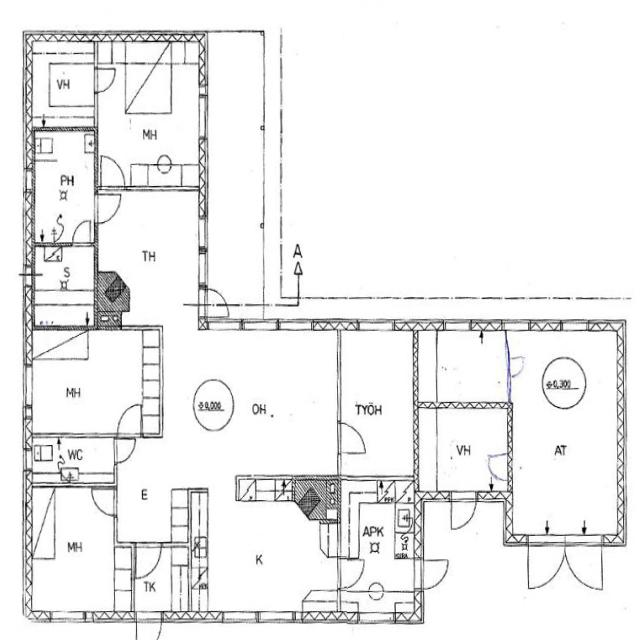door: (528, 536, 565, 593), (565, 536, 601, 593), (451, 492, 475, 534), (136, 544, 161, 580), (198, 290, 230, 318), (414, 562, 446, 590), (337, 424, 365, 454), (101, 157, 125, 190), (94, 194, 121, 223), (118, 405, 141, 438), (337, 560, 363, 589), (136, 612, 162, 640), (487, 455, 512, 481), (93, 489, 117, 516), (114, 439, 136, 464), (95, 69, 116, 93), (73, 221, 90, 247), (508, 359, 528, 379)
